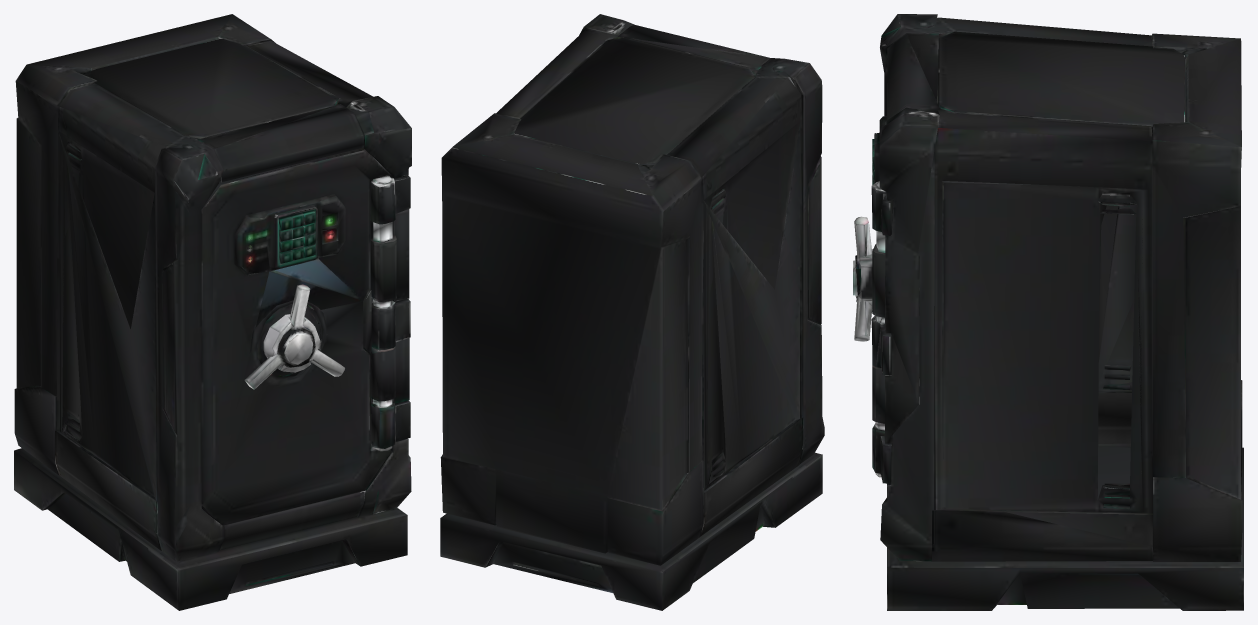
The model's file is safe_tier_4_digital_armored.glb.
3 renders of one model, left to right at view 1: azimuth 30°, elevation 25°; view 2: azimuth 150°, elevation 25°; view 3: azimuth 270°, elevation 25°, orthographic. The views are drawn at different scales.
Visible parts, largest first — view 1: Meshy_AI_safe_tier_4_digital_armored_3d_20261028_texture; view 2: Meshy_AI_safe_tier_4_digital_armored_3d_20261028_texture; view 3: Meshy_AI_safe_tier_4_digital_armored_3d_20261028_texture.
Boxes of the visible parts, box(x1,y1,x2,y2) form: Meshy_AI_safe_tier_4_digital_armored_3d_20261028_texture: box(14, 14, 411, 610); Meshy_AI_safe_tier_4_digital_armored_3d_20261028_texture: box(440, 14, 824, 610); Meshy_AI_safe_tier_4_digital_armored_3d_20261028_texture: box(853, 14, 1243, 610).
Bounding box in the file's own units: 0.8756 × 1.6 × 1.18.
1 material, 1 textured.
